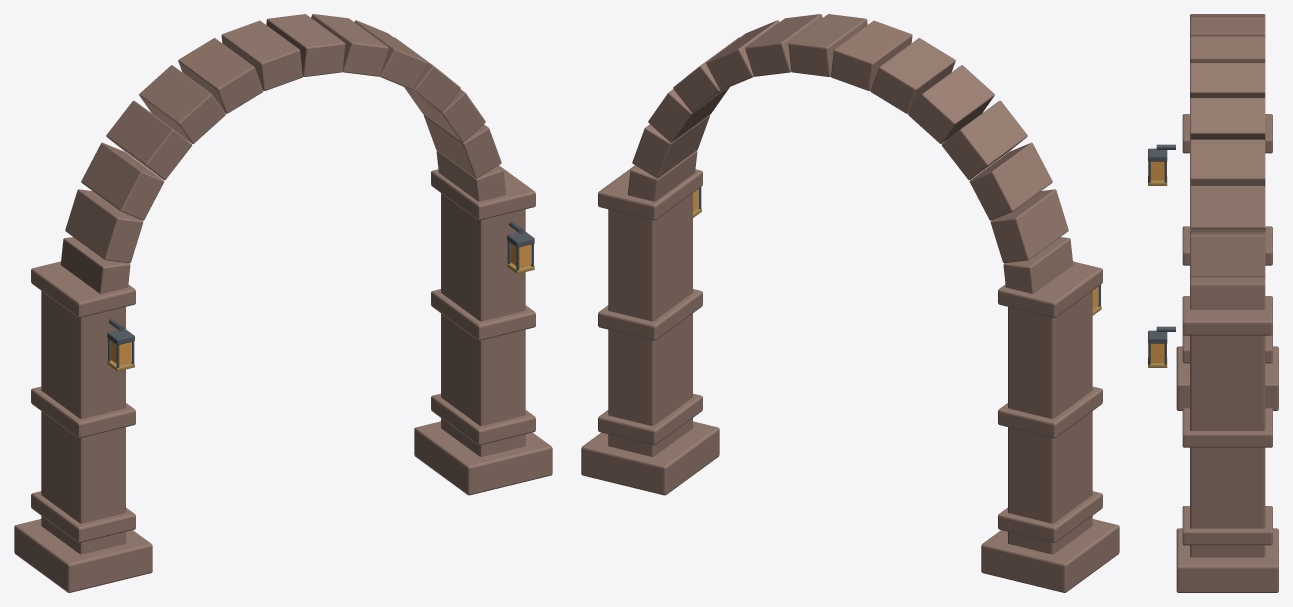
File: d2_portal.glb
3 views of the same model, side by side, from view 1: azimuth 30°, elevation 25°; view 2: azimuth 150°, elevation 25°; view 3: azimuth 270°, elevation 25° (orthographic). The views are drawn at different scales.
Parts seen in each view (by area): view 1: Body.006; view 2: Body.006; view 3: Body.006.
Boxes of the visible parts, <box> form: Body.006: <box>14,14,552,592</box>; Body.006: <box>581,14,1119,592</box>; Body.006: <box>1148,14,1278,592</box>.
Size of the model in its own units: 4.85 by 4.6 by 1.22.
